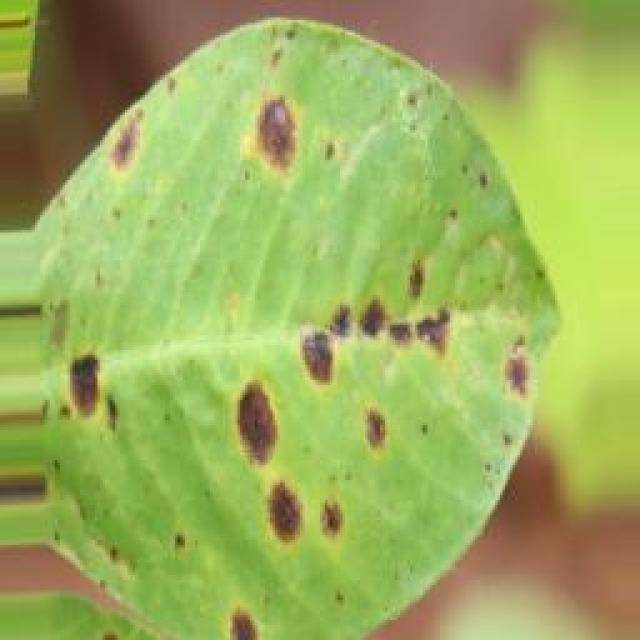Yellowish: (0, 64, 561, 640)
